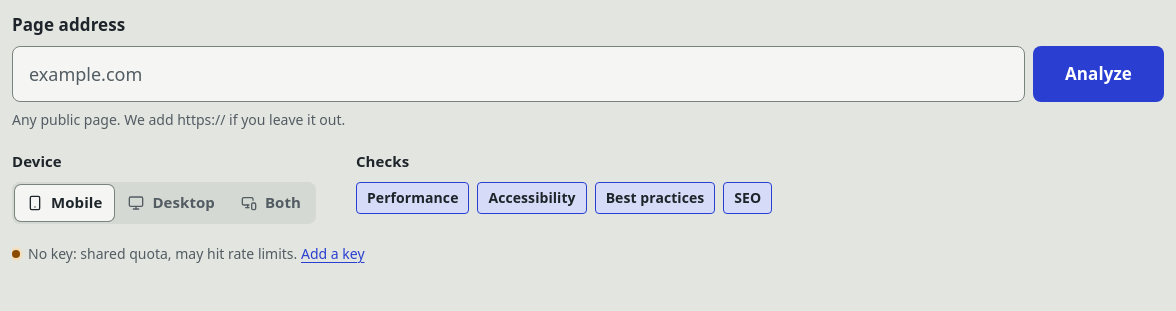
Test: AnalyzeForm › asks for an address when empty
The image size is (1176, 311).
Click the button "Analyze" at (1098, 74), box [1033, 46, 1164, 102]
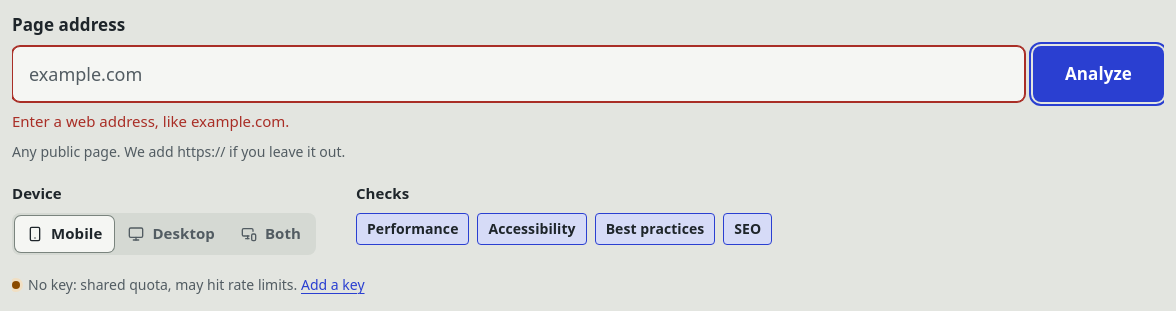
Expected: the text "Enter a web address, like example.com." is shown, [12, 111, 289, 131]
